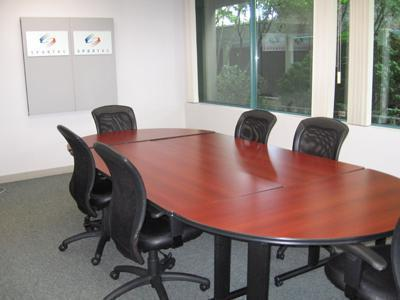Ventana: (186, 2, 325, 111)
